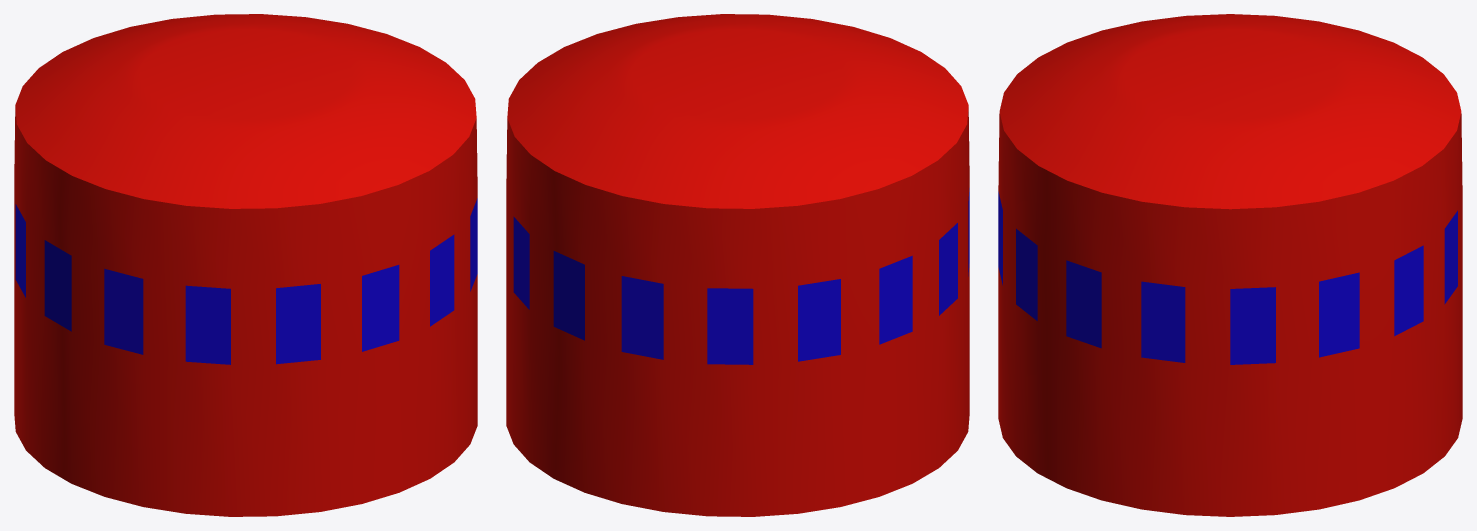
The model's file is garden_uv.fbx.
The picture shows the model from 3 angles, left to right: view 1: azimuth 30°, elevation 25°; view 2: azimuth 150°, elevation 25°; view 3: azimuth 270°, elevation 25°; orthographic projection.
Visible parts, largest first — view 1: building; view 2: building; view 3: building.
Boxes of the visible parts, x1,y1,x2,y2 form: building: (14,14,477,516); building: (506,14,969,516); building: (998,14,1462,516).
Bounding box in the file's own units: 2060 × 1689 × 2060.
